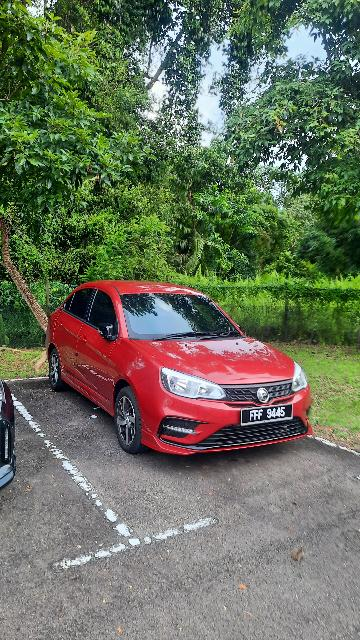License_Plate: (239, 403, 296, 429)
car: (40, 276, 317, 461)
